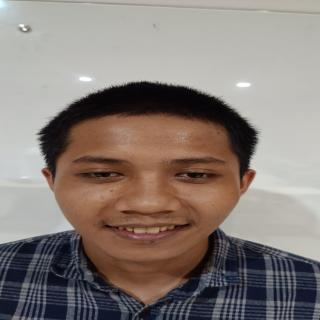Senang: (53, 109, 250, 262)
